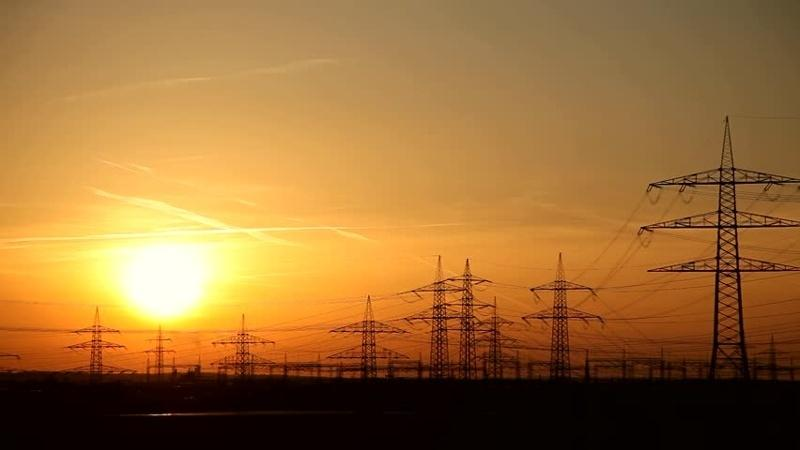power_tower: (652, 133, 789, 378), (526, 242, 594, 371), (404, 267, 461, 378), (328, 294, 398, 383), (61, 306, 125, 382), (211, 312, 278, 381), (456, 261, 492, 370)
